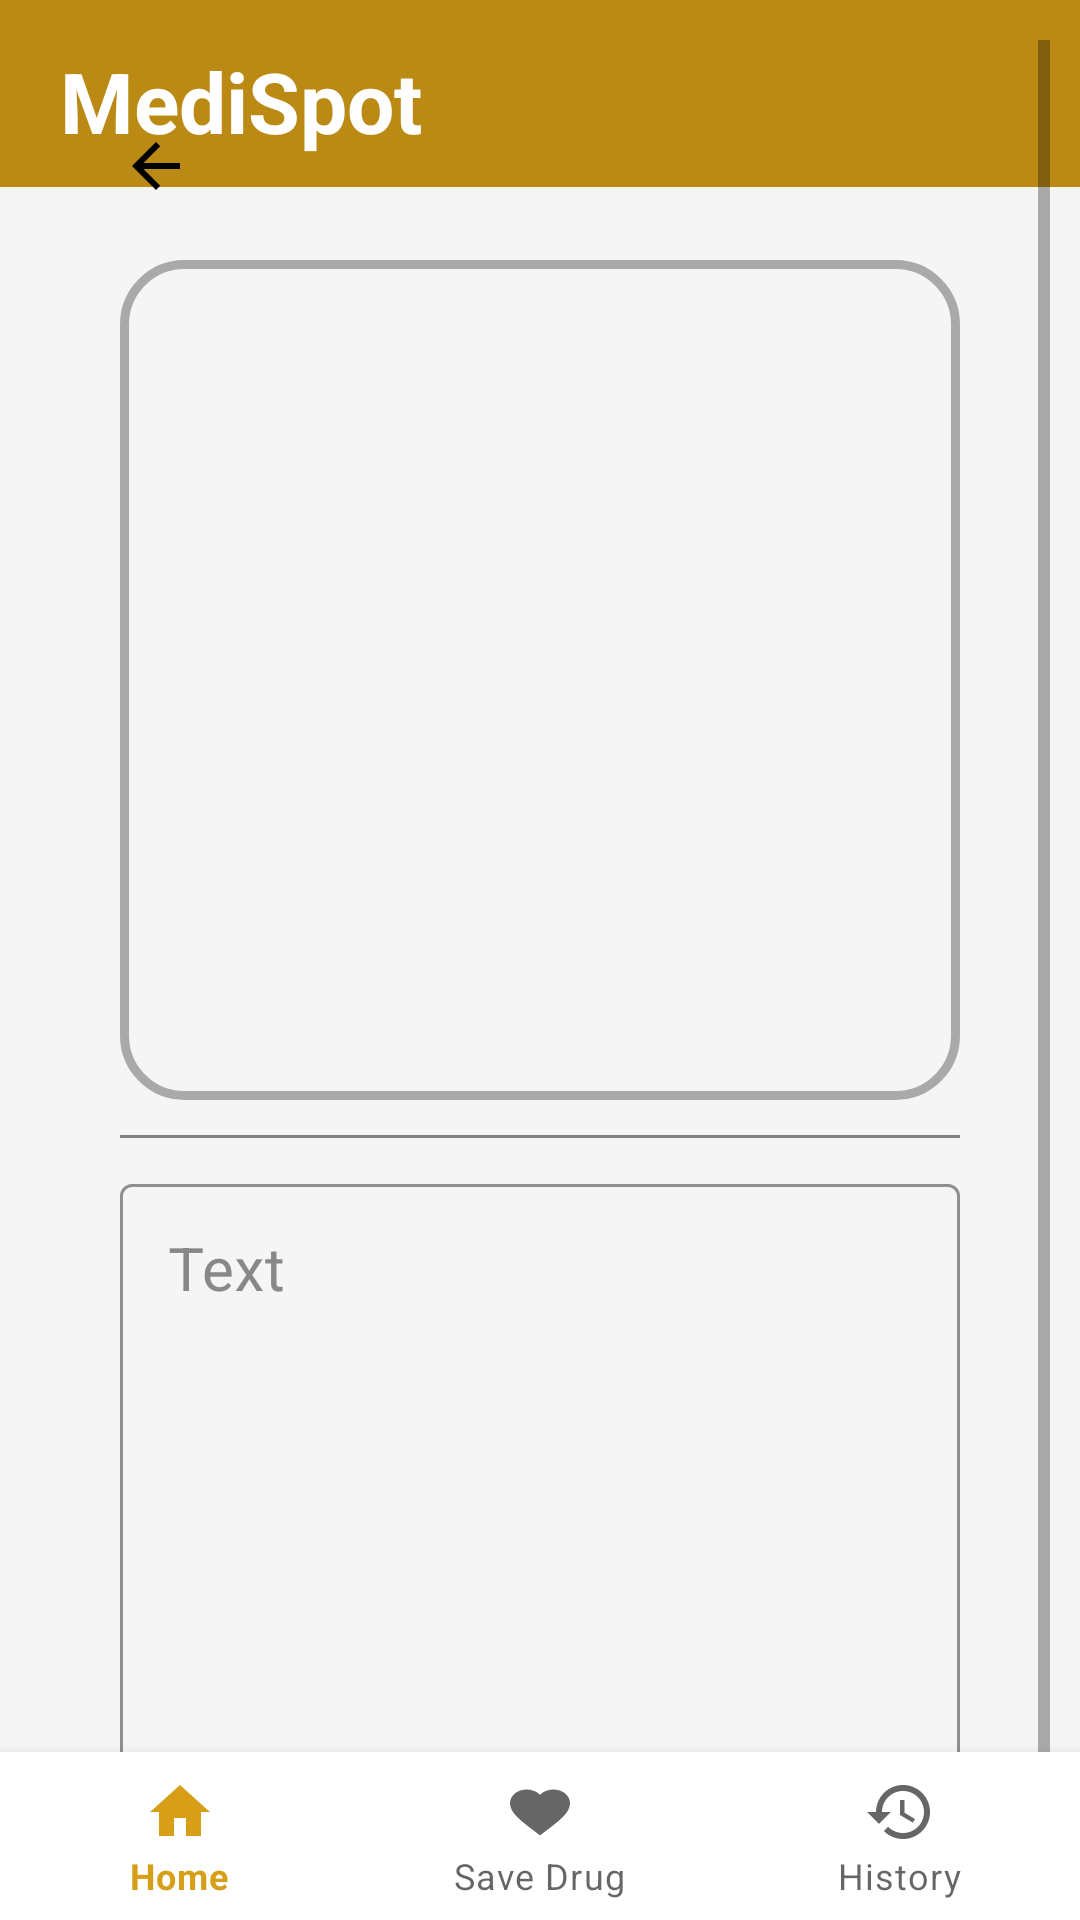

Screen size 1080w x 1920h. Icon name, then its box in pixels as (left=x1, top=y1, right=x2, bottom=y2):
back: (left=120, top=130, right=210, bottom=190)
